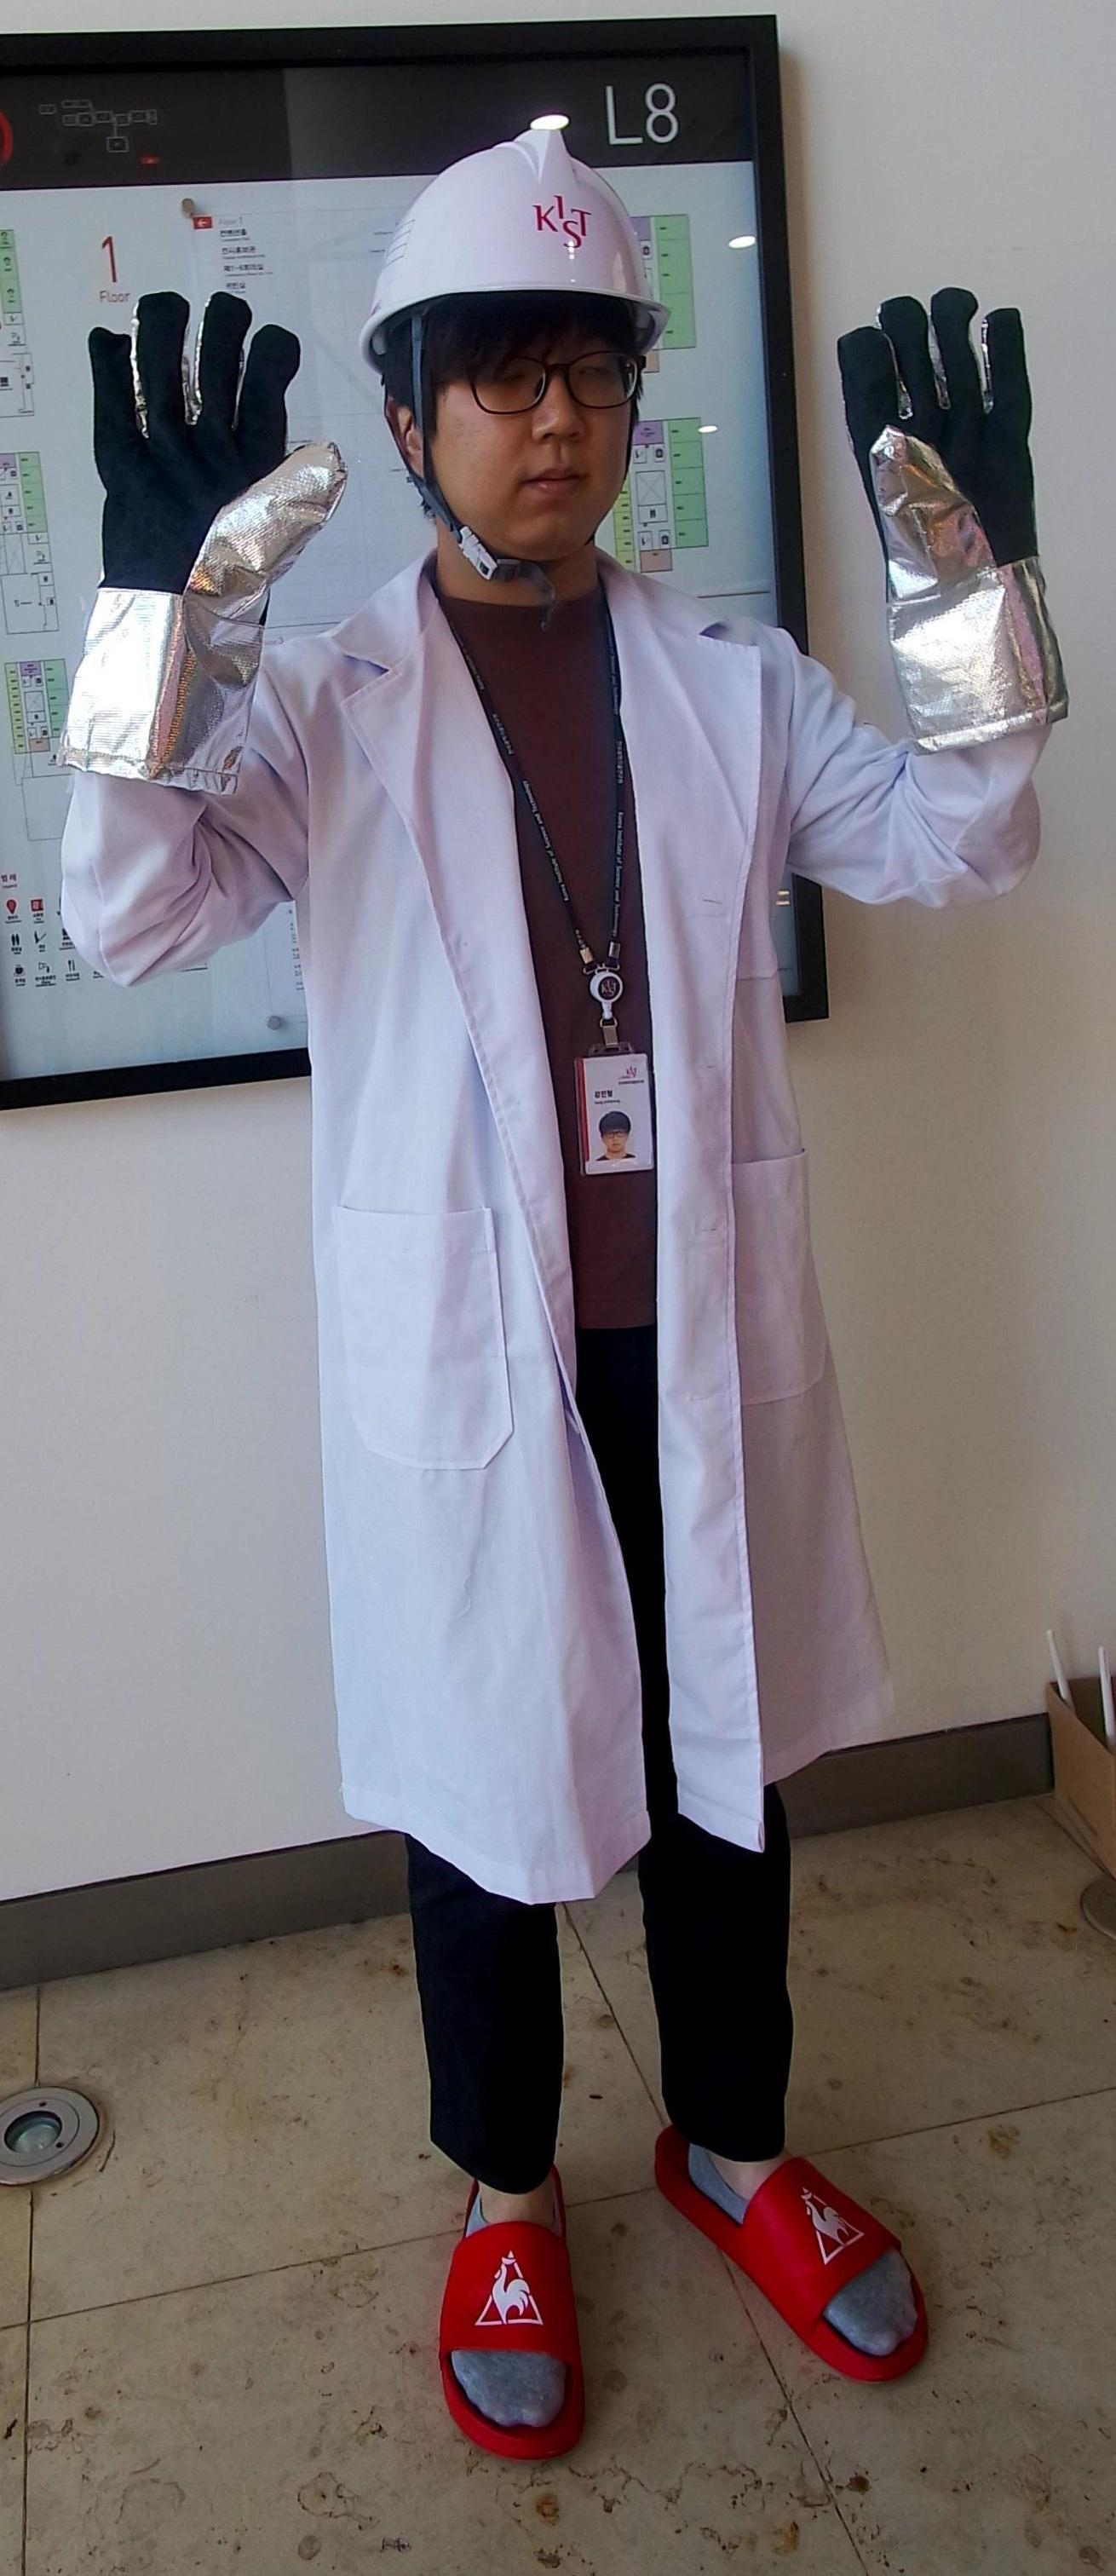lab_coat: (304, 649, 823, 1843)
